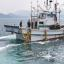fishing boat: (3, 0, 64, 45)
